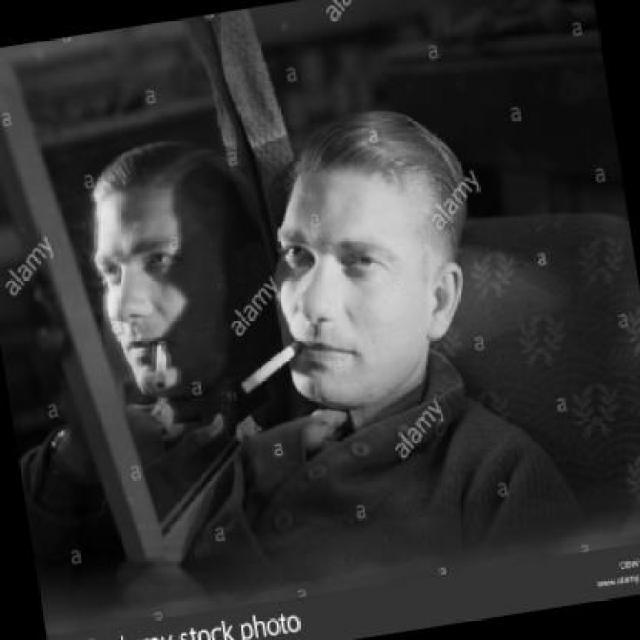smoke: (232, 338, 311, 398), (148, 332, 177, 390)
